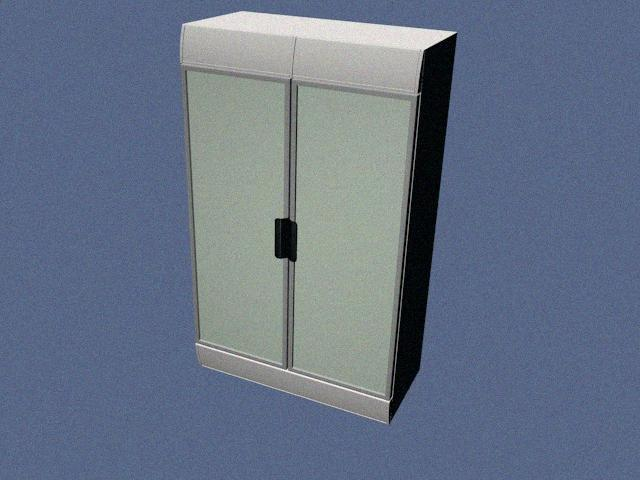cabinet_door: (290, 93, 398, 380), (192, 78, 290, 353)
handle: (274, 212, 290, 267)
